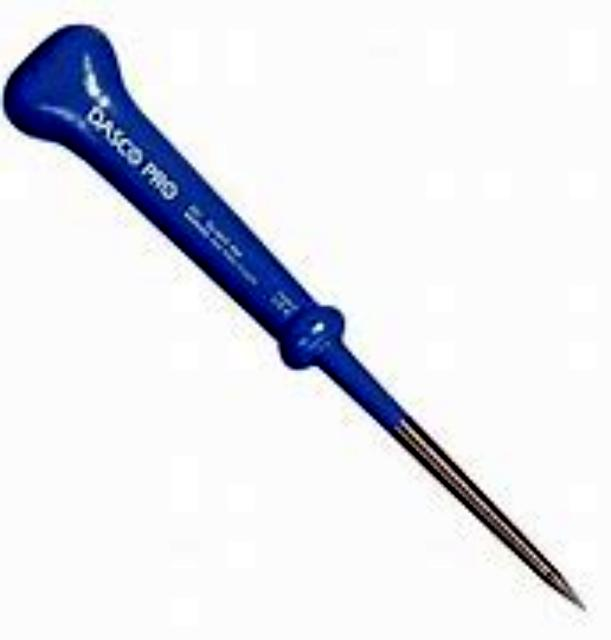ice pick: (7, 18, 586, 618)
